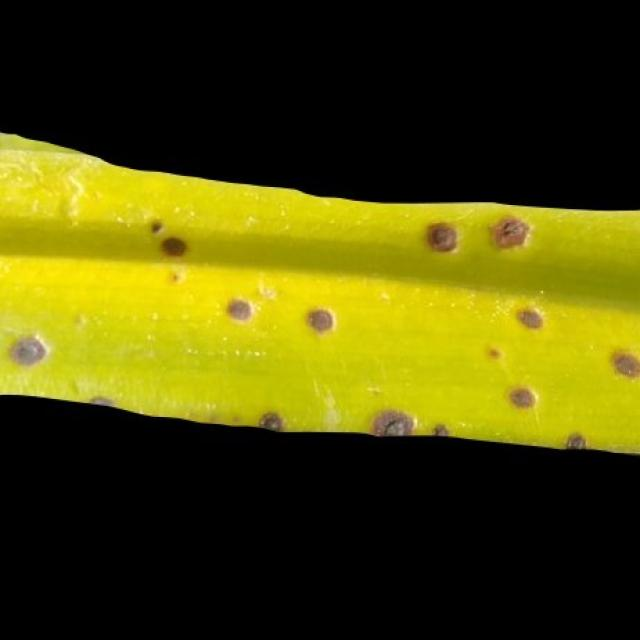mite: (0, 290, 639, 442), (421, 213, 532, 255), (371, 407, 413, 436), (515, 305, 543, 330), (507, 385, 535, 410), (258, 409, 283, 432), (564, 431, 586, 450), (147, 217, 163, 234)
spots: (0, 121, 639, 459)
